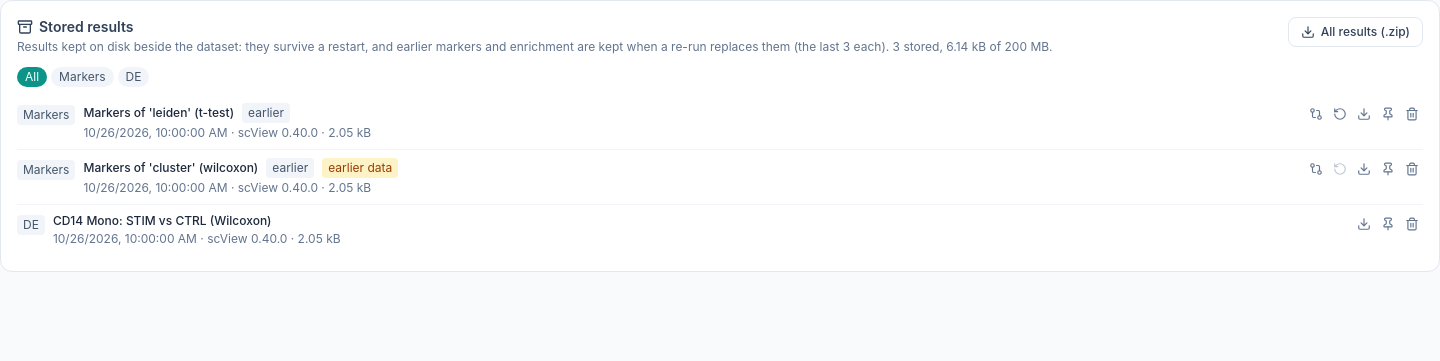
Scenario: ResultsList › compares markers with the current ones
Click the button named "Compare Markers of 'leiden'" at x=1316, y=114, box [1305,103,1327,125]
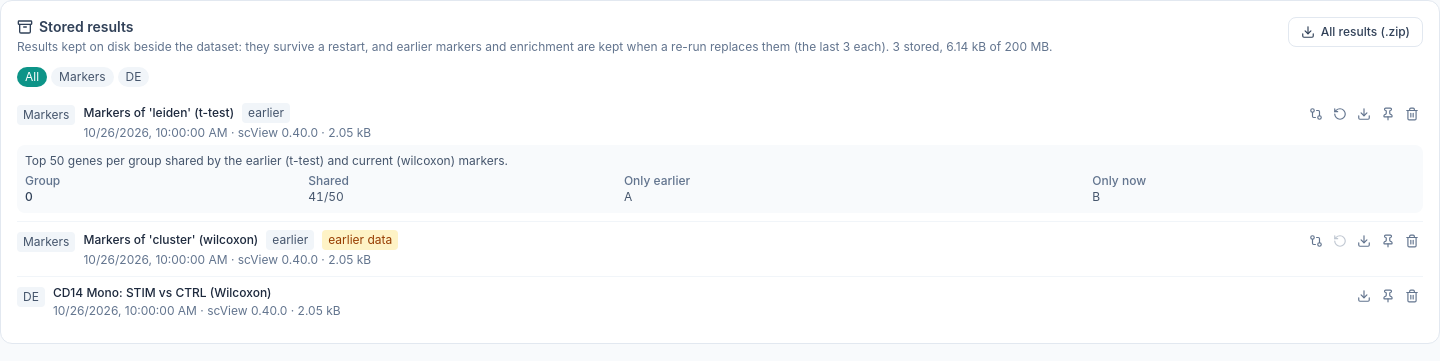
Expected: the element with test id "compare-markers" shows "t-test", [289,153,320,168]
Expected: the text "41/50" is shown, [308,189,624,205]
